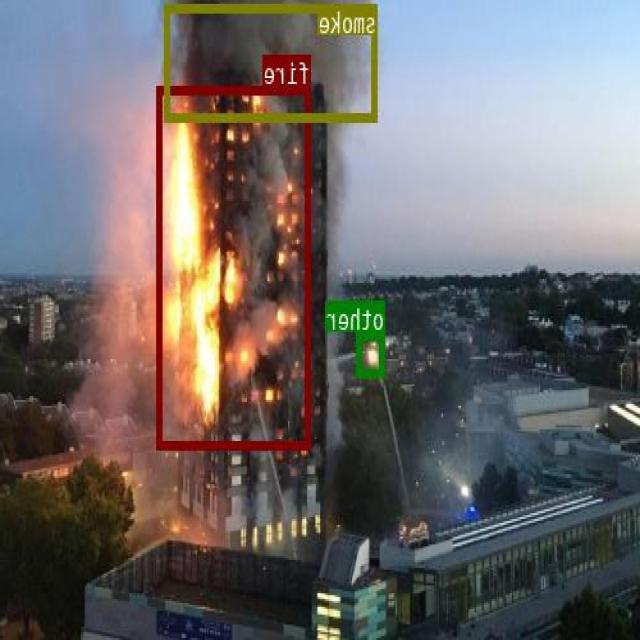fire: (158, 86, 311, 448)
other: (358, 332, 386, 376)
smoke: (166, 3, 378, 120)
